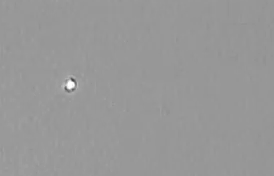Target: (67, 80, 75, 89)
